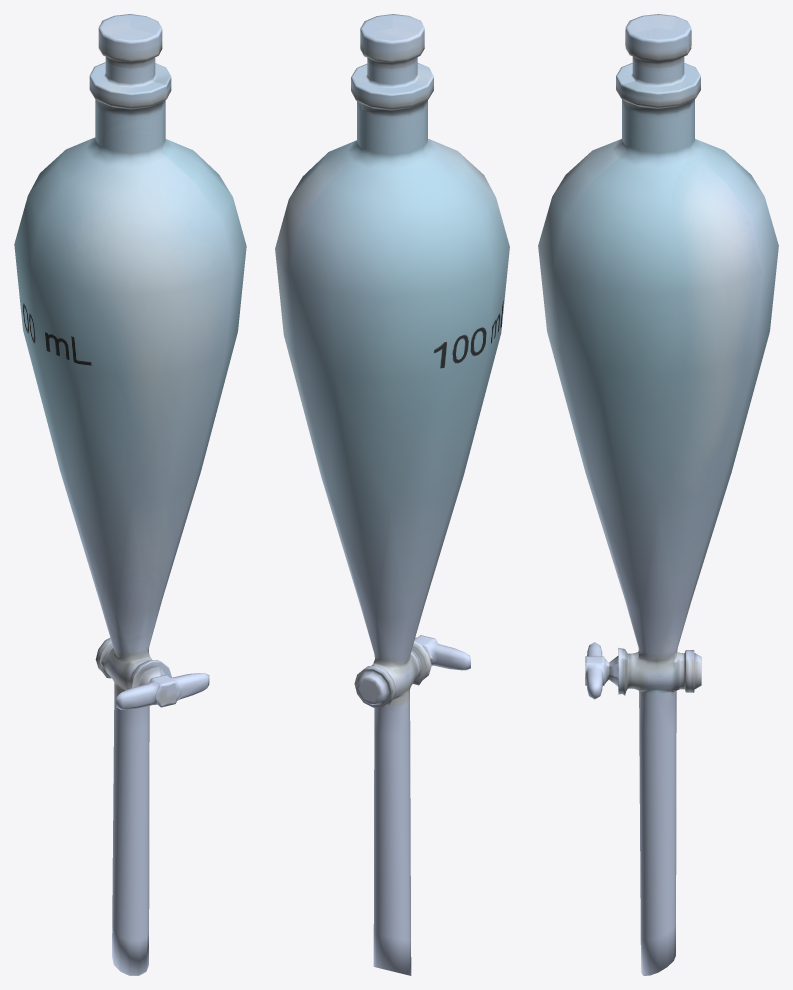
Rendered from Separatory_funnel.fbx.
The picture shows the model from 3 angles, left to right: view 1: azimuth 30°, elevation 25°; view 2: azimuth 150°, elevation 25°; view 3: azimuth 270°, elevation 25°; orthographic projection.
Visible parts, largest first — view 1: Separatory_funnel_; view 2: Separatory_funnel_; view 3: Separatory_funnel_.
Boxes of the visible parts, x1,y1,x2,y2 form: Separatory_funnel_: (14,14,246,975); Separatory_funnel_: (275,14,509,975); Separatory_funnel_: (538,14,778,975).
Bounding box in the file's own units: 0.1114 × 0.4984 × 0.1151.
